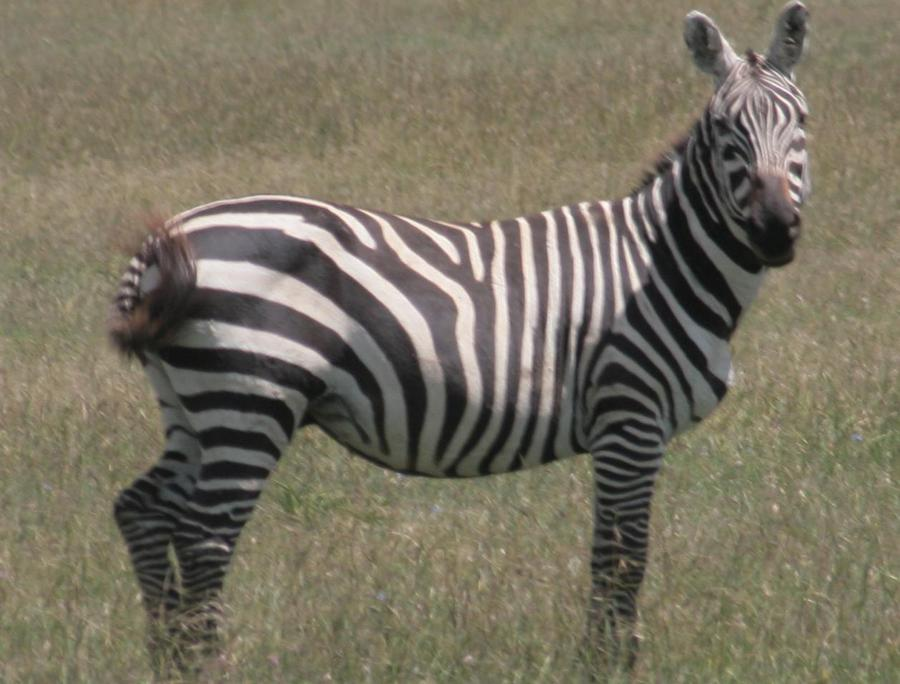zebra_plains: (129, 140, 712, 511)
